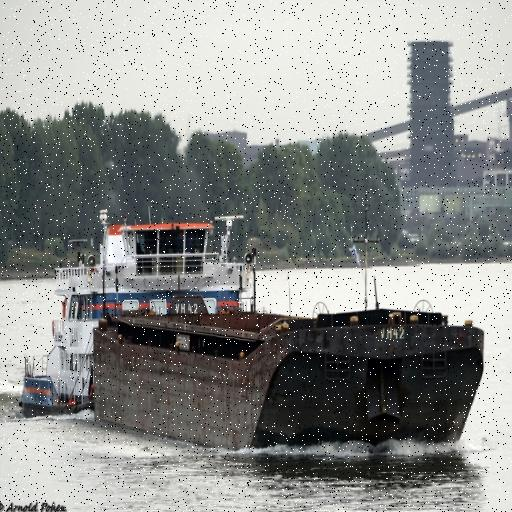tugboat: (15, 203, 263, 433)
